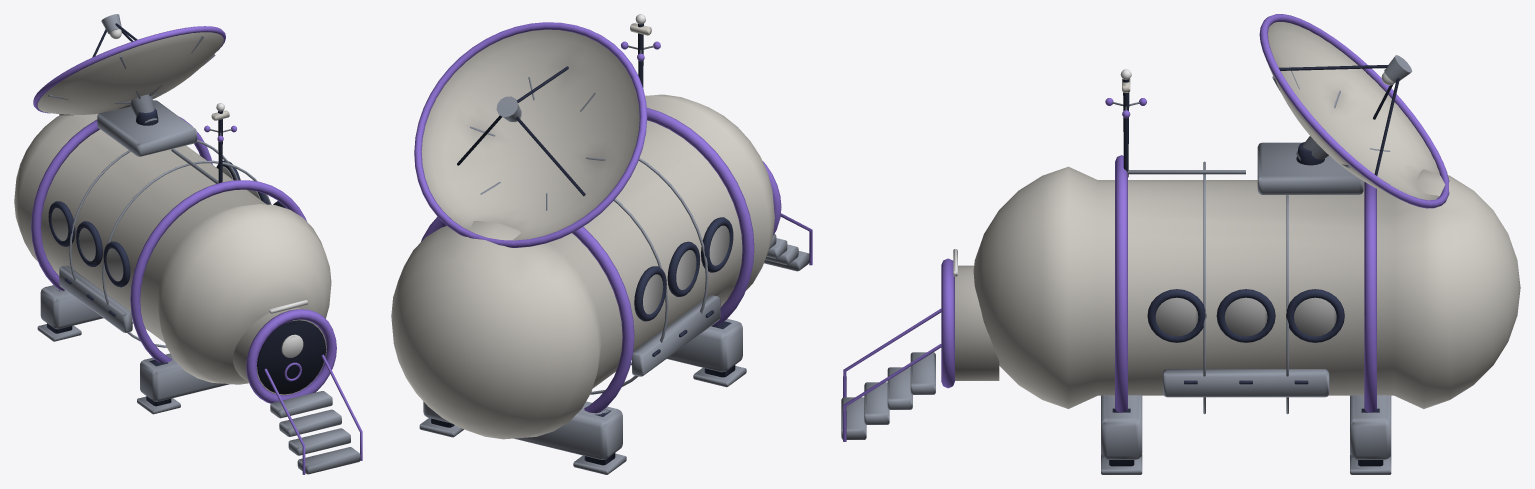
File: lab.glb
The picture shows the model from 3 angles, left to right: view 1: azimuth 30°, elevation 25°; view 2: azimuth 150°, elevation 25°; view 3: azimuth 270°, elevation 25°; orthographic projection. The views are drawn at different scales.
Visible parts, largest first — view 1: lab, dish; view 2: lab, dish; view 3: lab, dish.
Part boxes in pixels (<box>): lab: <box>14,100,362,474</box>; dish: <box>33,14,225,123</box>; lab: <box>391,14,812,474</box>; dish: <box>414,22,647,247</box>; lab: <box>841,69,1520,474</box>; dish: <box>1259,14,1449,208</box>.
Bounding box in the file's own units: 5.76 × 9.51 × 14.72.
